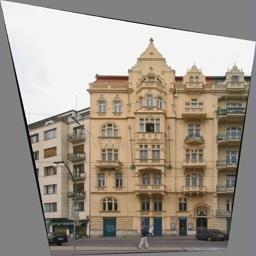building: (85, 37, 256, 250), (0, 104, 85, 240)
